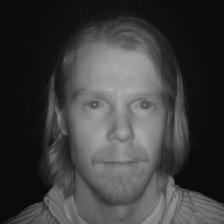normal: (41, 19, 196, 210)
